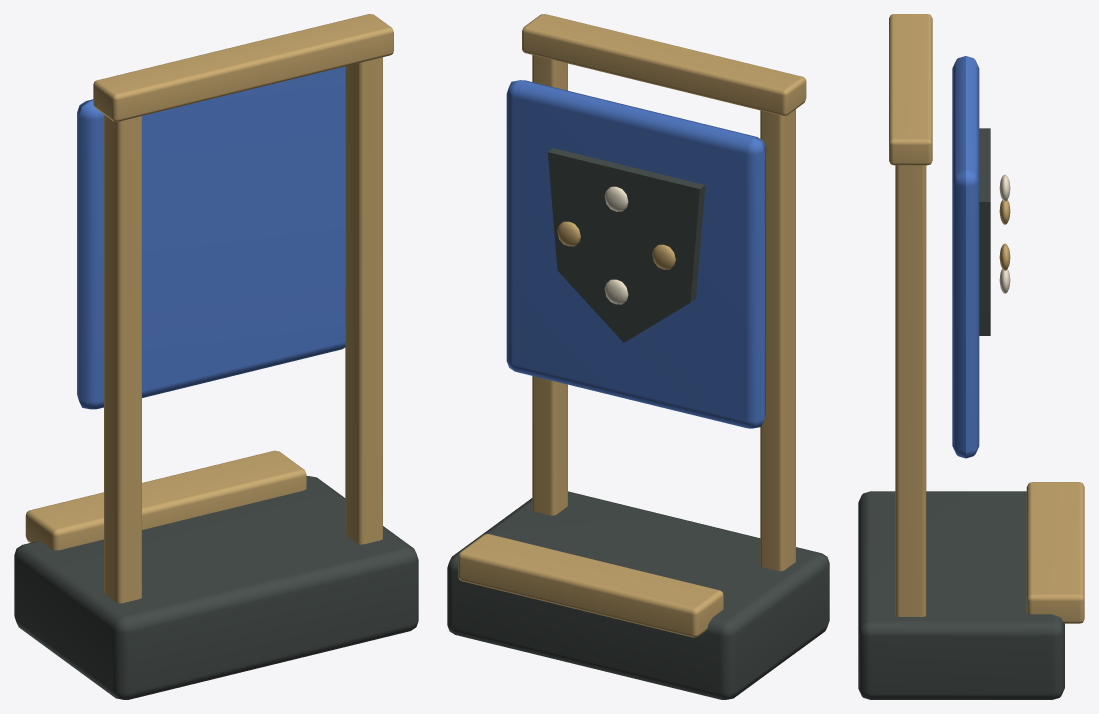
The model's file is fanstand.sapphire-sparks.glb.
The picture shows the model from 3 angles, left to right: view 1: azimuth 30°, elevation 25°; view 2: azimuth 150°, elevation 25°; view 3: azimuth 270°, elevation 25°; orthographic projection. The views are drawn at different scales.
Parts seen in each view (by area): view 1: Beveled pedestal; view 2: Beveled pedestal; view 3: Beveled pedestal.
Boxes of the visible parts, x1=… form: Beveled pedestal: x1=14, y1=14, x2=418, y2=699; Beveled pedestal: x1=447, y1=14, x2=829, y2=699; Beveled pedestal: x1=858, y1=14, x2=1084, y2=699.
Size of the model in its own units: 0.91 by 1.7 by 0.625.
